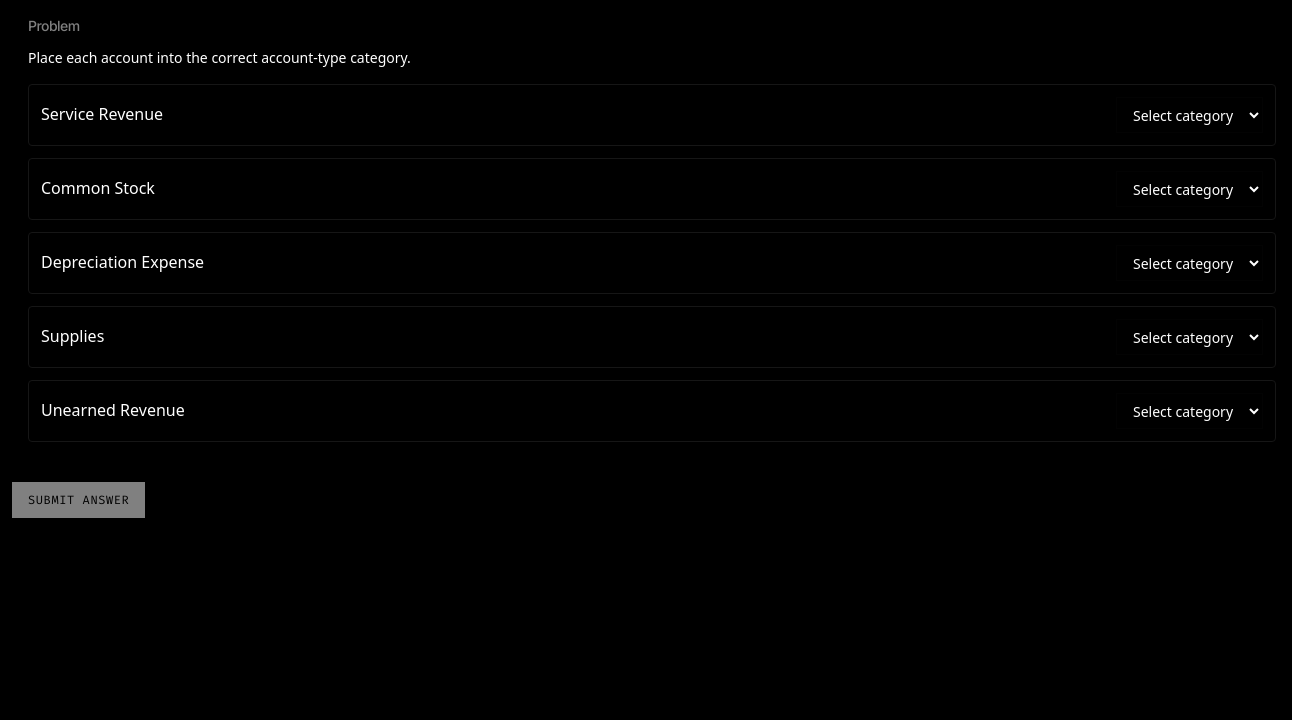
it: ClassificationInput › disables submit until all items have a category selection
The image size is (1292, 720).
Expected: the button "Submit Answer" is disabled, [12,482,145,518]
Select "Revenue" in the dropdown in the row of "Service Revenue" at (1190, 115), box [1116,97,1263,133]
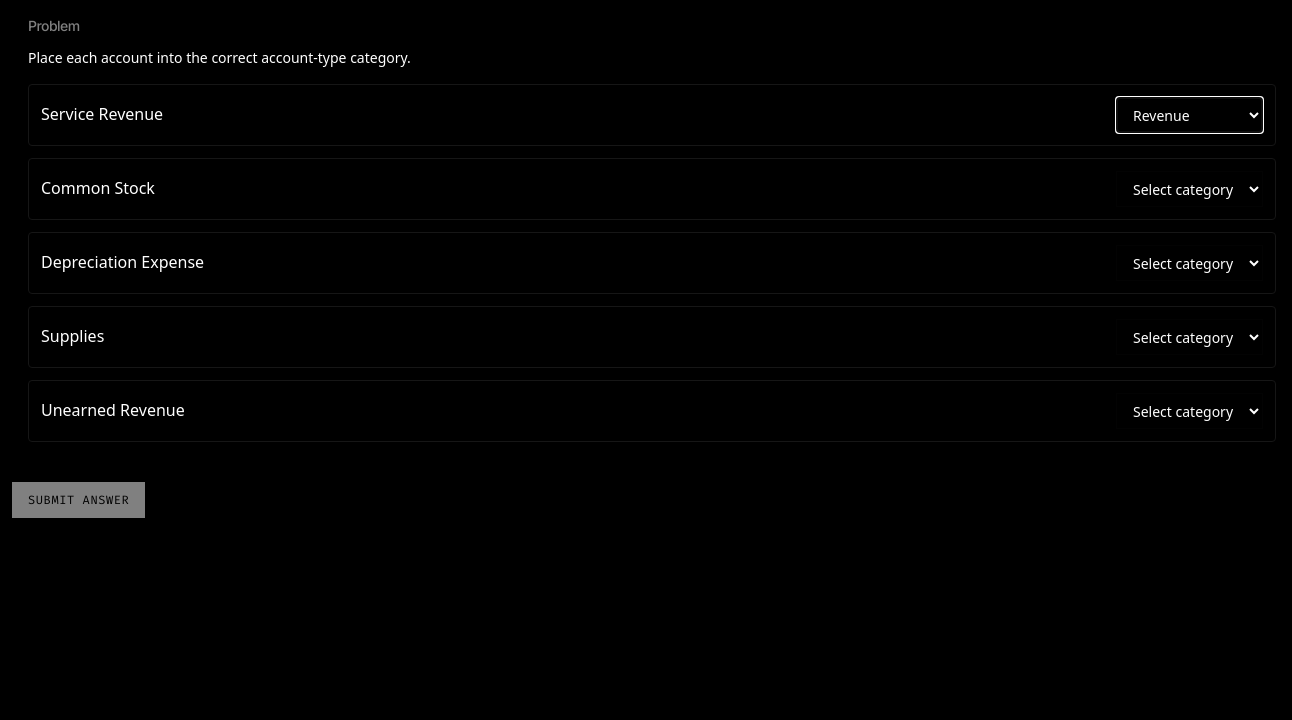
Expected: the button "Submit Answer" is disabled, [12,482,145,518]
Select "Equity" in the dropdown in the row of "Common Stock" at (1190, 189), box [1116,171,1263,207]
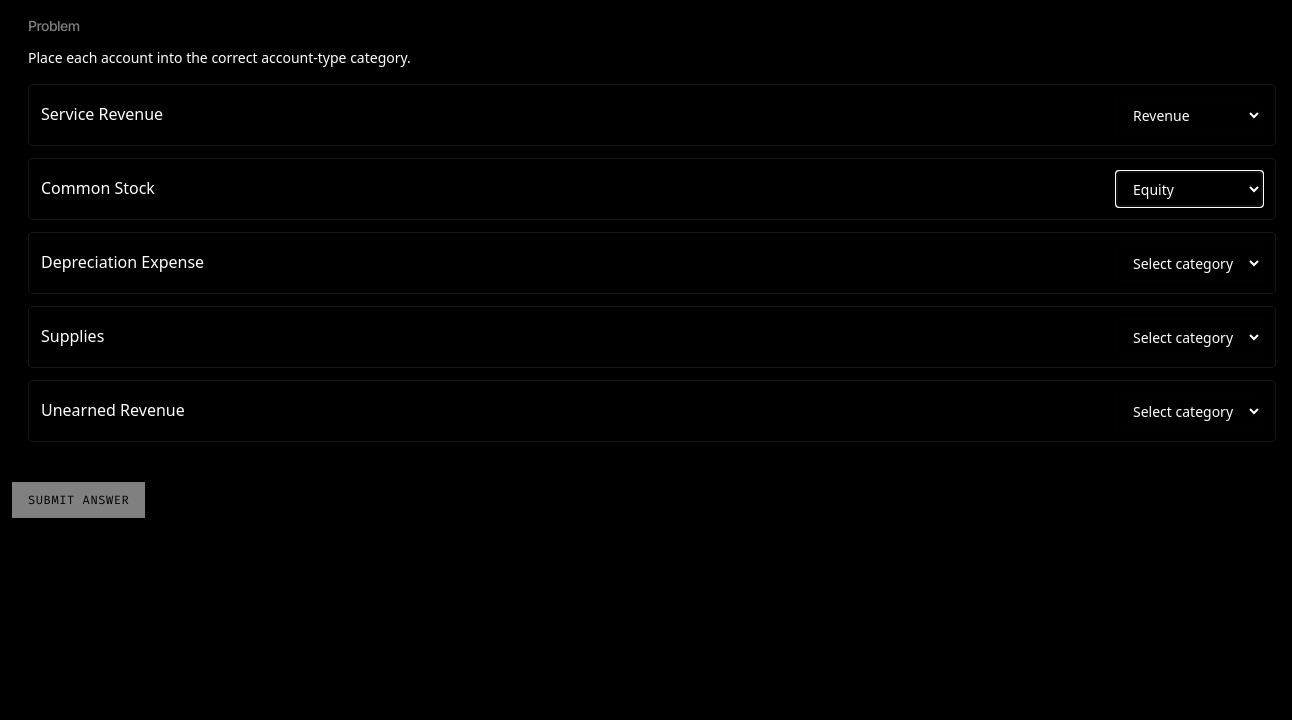
Select "Expenses" in the dropdown in the row of "Depreciation Expense" at (1190, 263), box [1116,245,1263,281]
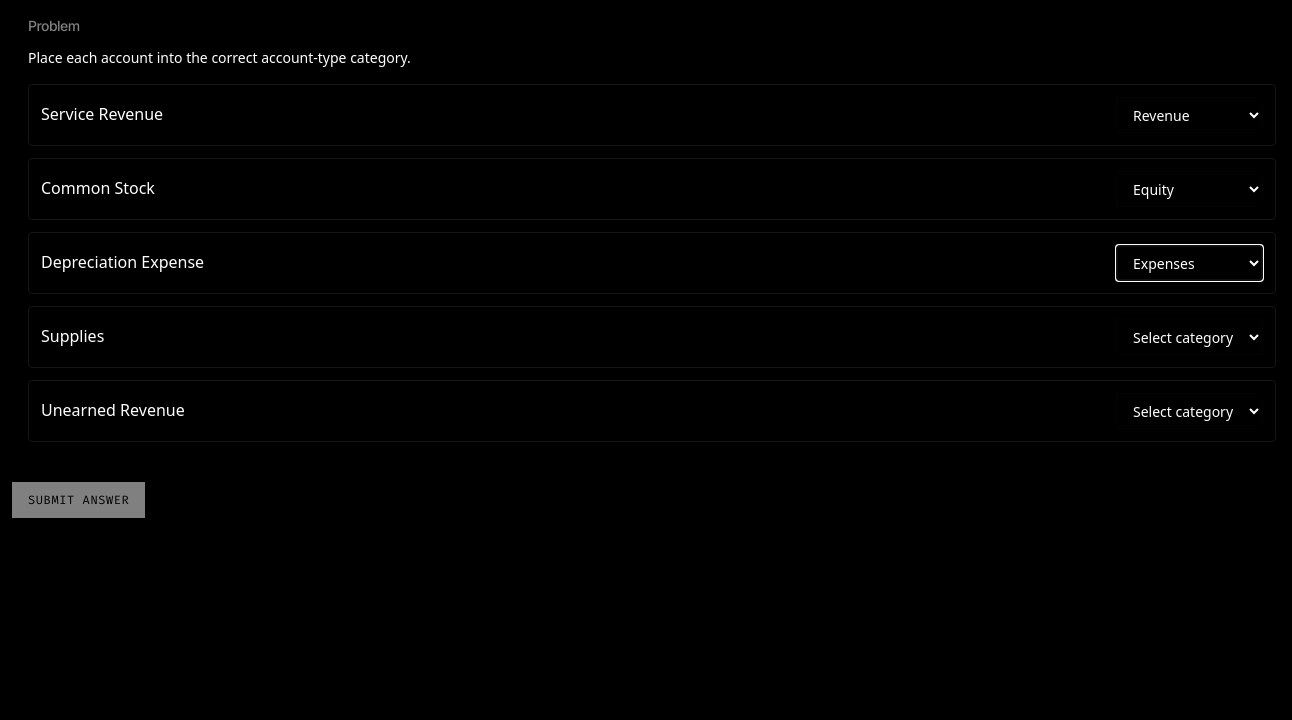
Select "Assets" in the dropdown in the row of "Supplies" at (1190, 337), box [1116,319,1263,355]
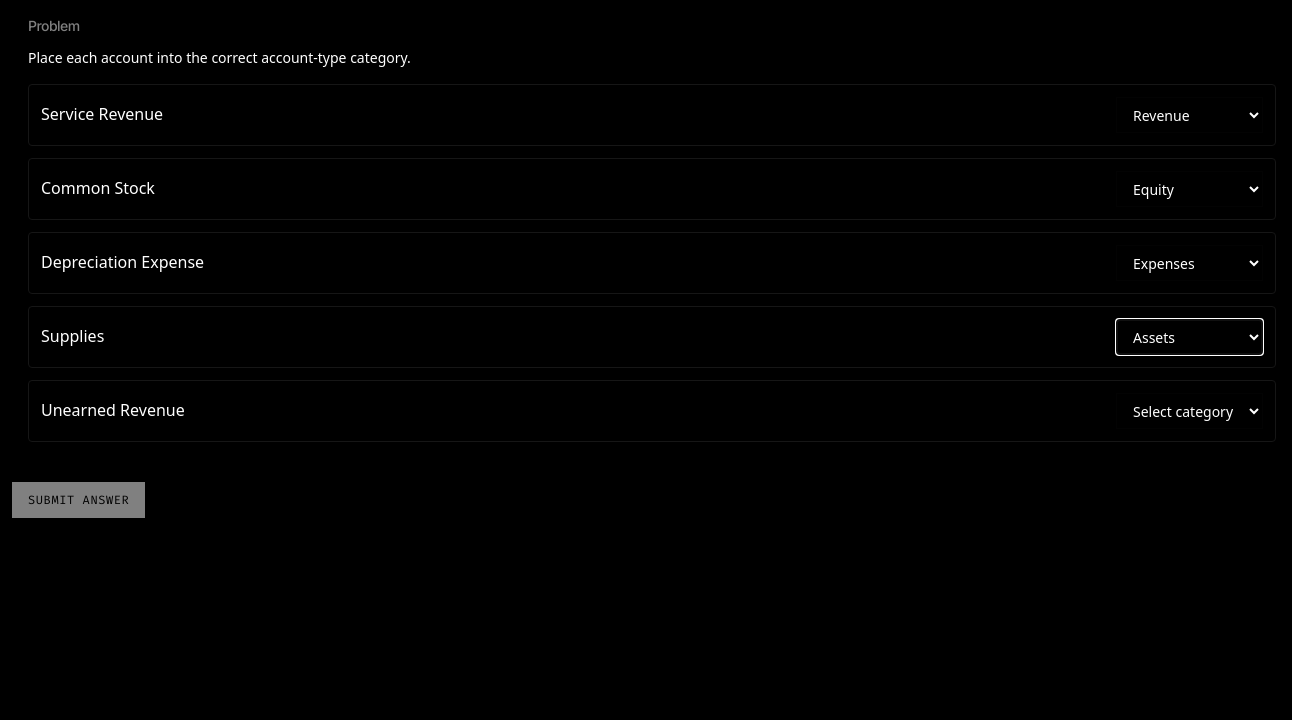
Select "Liabilities" in the dropdown in the row of "Unearned Revenue" at (1190, 411), box [1116,393,1263,429]
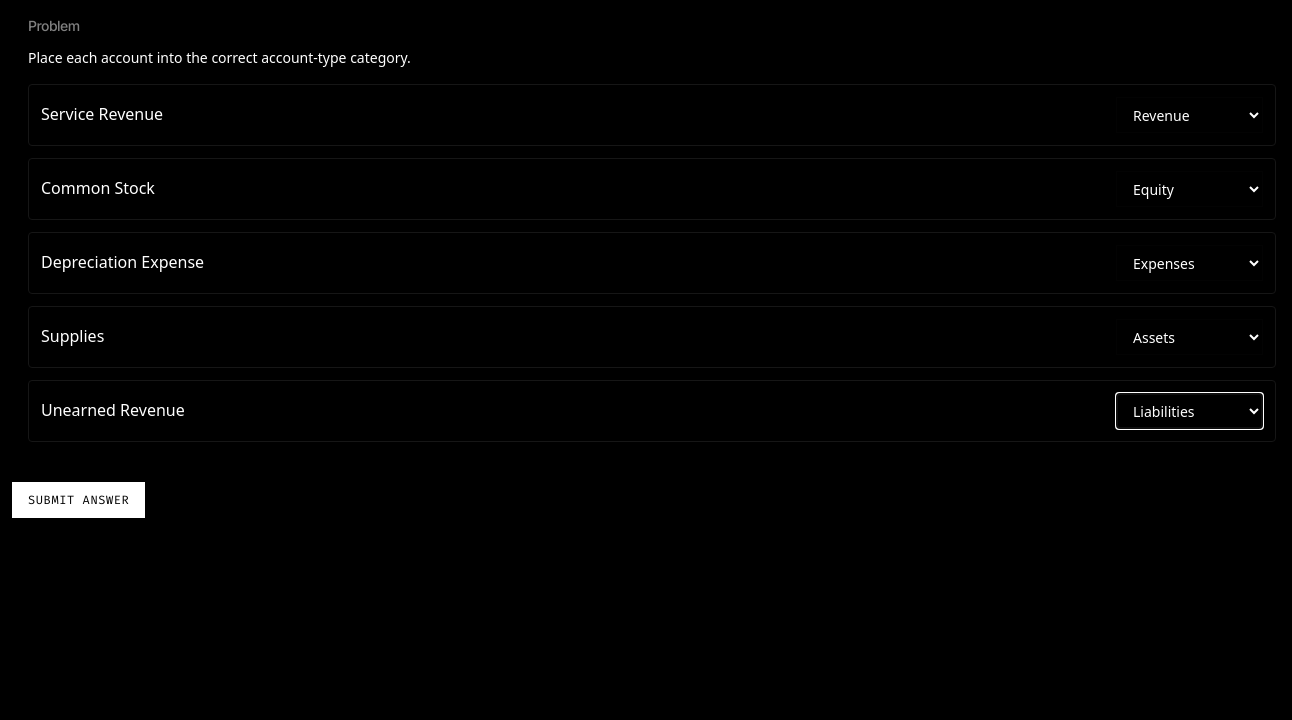
Expected: the button "Submit Answer" is enabled, [12,482,145,518]
